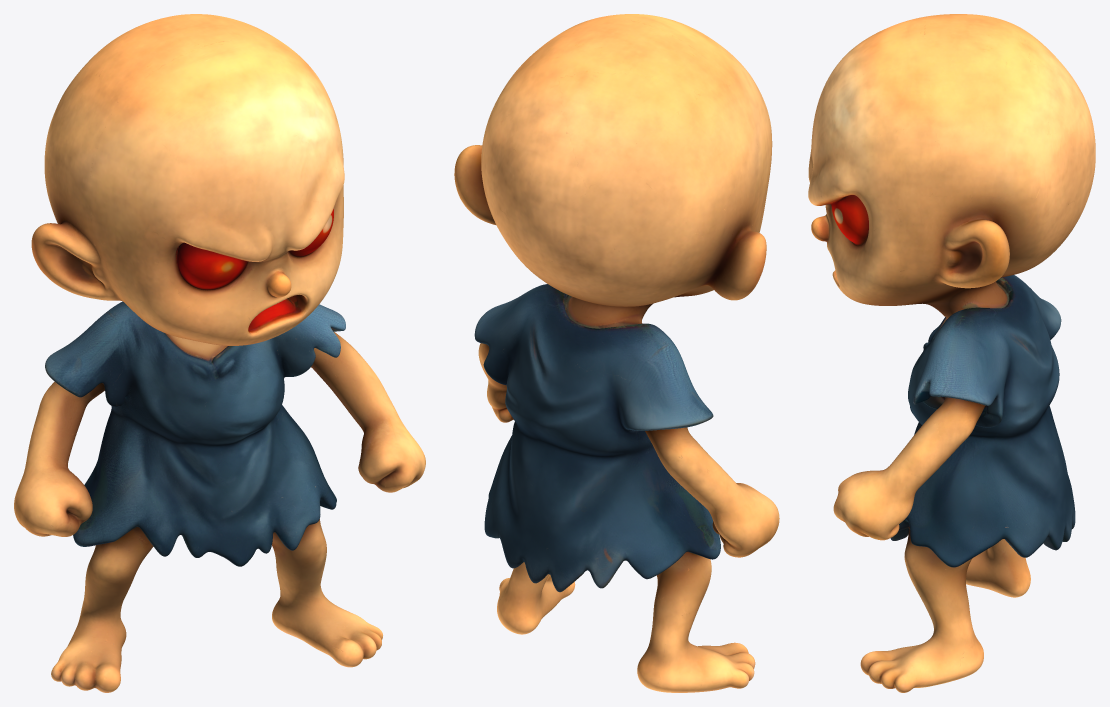
The model's file is 3d_minyar.glb.
3 views of the same model, side by side, from view 1: azimuth 30°, elevation 25°; view 2: azimuth 150°, elevation 25°; view 3: azimuth 270°, elevation 25° (orthographic). The views are drawn at different scales.
Bounding box in the file's own units: 1.08 × 1.9 × 0.8326.
1 material, 1 textured.
